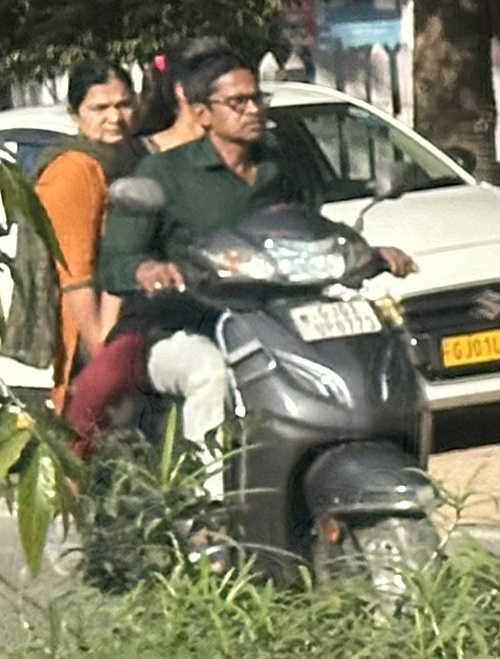BikeWithRider: (31, 32, 465, 624)
NoHelmet: (186, 54, 278, 147), (159, 35, 239, 126), (66, 61, 140, 149)
